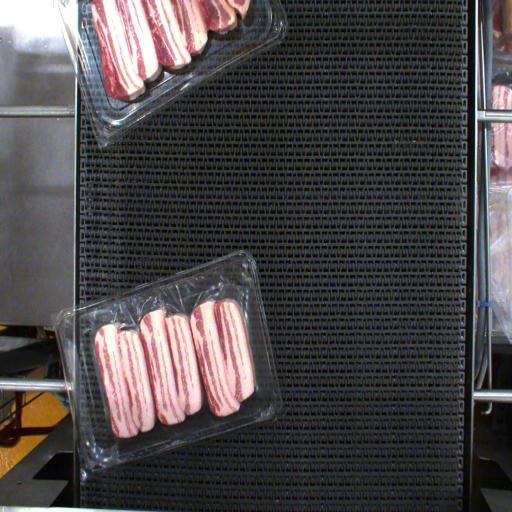unsealed: (62, 268, 261, 356)
